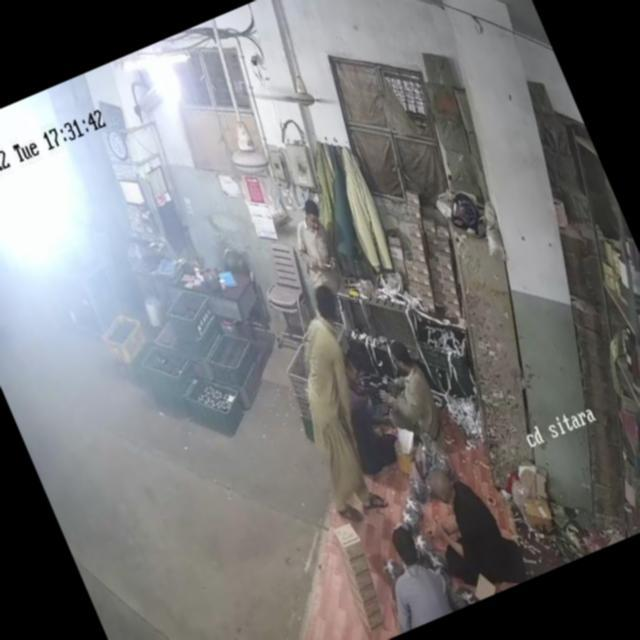person: (252, 291, 418, 528), (423, 442, 531, 595), (368, 513, 458, 630), (374, 332, 452, 450), (286, 198, 349, 288)
